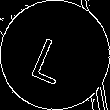L_NE: (31, 26, 79, 84)
